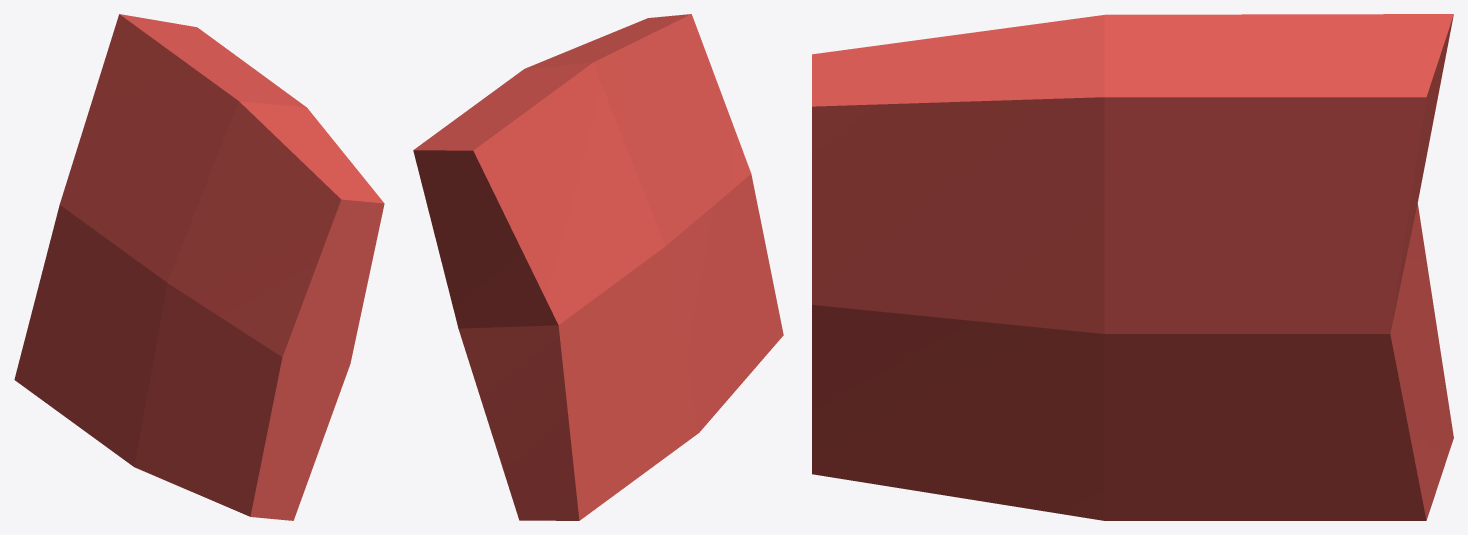
File: Frybox.dae
3 views of the same model, side by side, from view 1: azimuth 30°, elevation 25°; view 2: azimuth 150°, elevation 25°; view 3: azimuth 270°, elevation 25° (orthographic). The views are drawn at different scales.
Visible parts, largest first — view 1: Frybox; view 2: Frybox; view 3: Frybox.
Part boxes in pixels (x1=…): Frybox: x1=14, y1=14, x2=384, y2=520; Frybox: x1=413, y1=14, x2=783, y2=520; Frybox: x1=812, y1=14, x2=1453, y2=520.
Bounding box in the file's own units: 0.3795 × 0.8292 × 0.7595.
